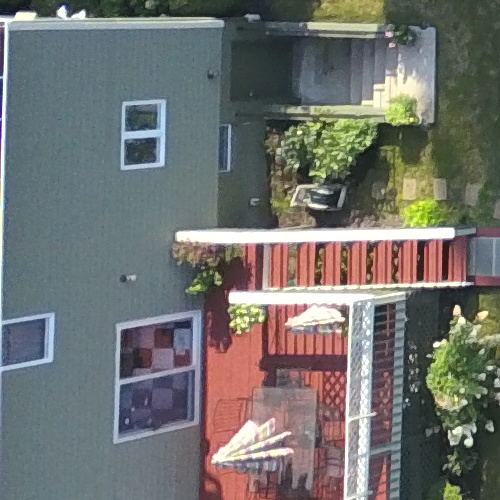porch: (184, 205, 483, 500)
